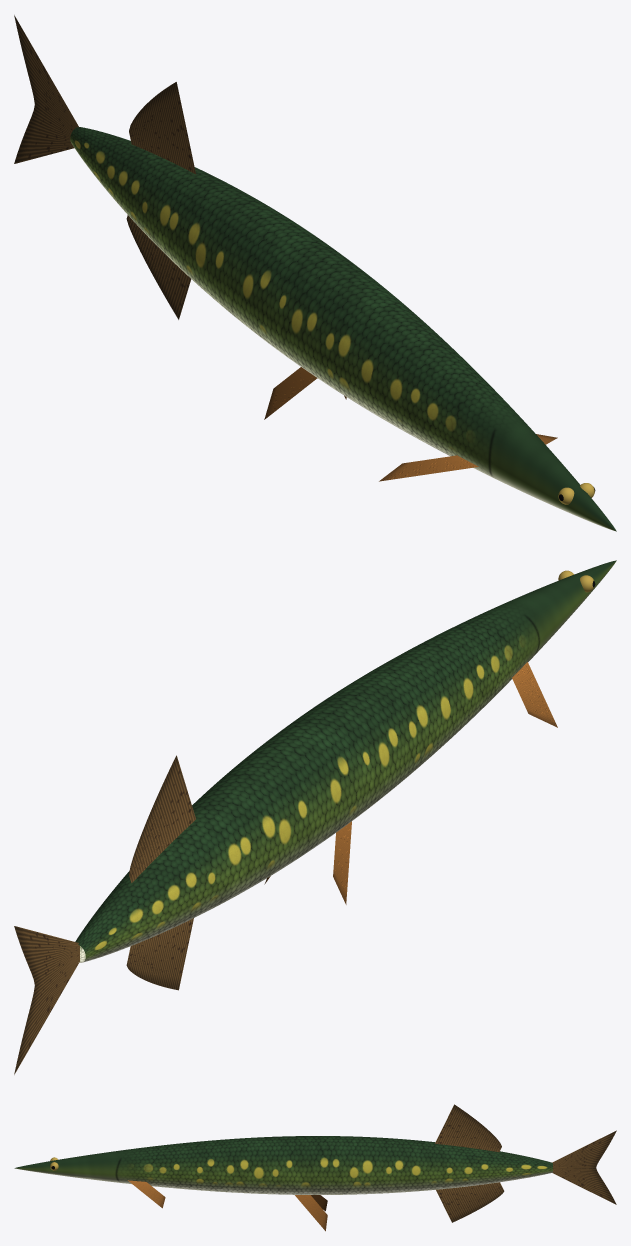
The model's file is schuka_trophy.obj.
3 renders of one model, top to bottom at view 1: azimuth 30°, elevation 25°; view 2: azimuth 150°, elevation 25°; view 3: azimuth 270°, elevation 25°, orthographic. The views are drawn at different scales.
Parts seen in each view (by area): view 1: body, fin_tail, fin_dorsal0, fin_anal0, fin_pect_R, fin_pelv_R; view 2: body, fin_tail, fin_dorsal0, fin_anal0, fin_pect_R, fin_pelv_R; view 3: body, fin_tail, fin_dorsal0, fin_anal0, fin_pelv_L, fin_pect_L.
Part boxes in pixels (<box>): body: <box>70,127,616,531</box>; fin_tail: <box>14,15,78,163</box>; fin_dorsal0: <box>129,82,195,174</box>; fin_anal0: <box>126,215,191,319</box>; fin_pect_R: <box>379,455,478,481</box>; fin_pelv_R: <box>264,367,317,419</box>; body: <box>75,560,616,962</box>; fin_tail: <box>14,926,79,1074</box>; fin_dorsal0: <box>129,755,195,882</box>; fin_anal0: <box>126,918,193,990</box>; fin_pect_R: <box>512,662,557,727</box>; fin_pelv_R: <box>333,821,351,904</box>; body: <box>14,1136,552,1194</box>; fin_tail: <box>552,1130,616,1204</box>; fin_dorsal0: <box>435,1104,501,1151</box>; fin_anal0: <box>436,1182,504,1222</box>; fin_pelv_L: <box>295,1195,327,1231</box>; fin_pect_L: <box>128,1180,165,1208</box>.
Bounding box in the file's own units: 0.1892 × 0.2386 × 1.1.
Materials: 5 (3 with a texture image).
